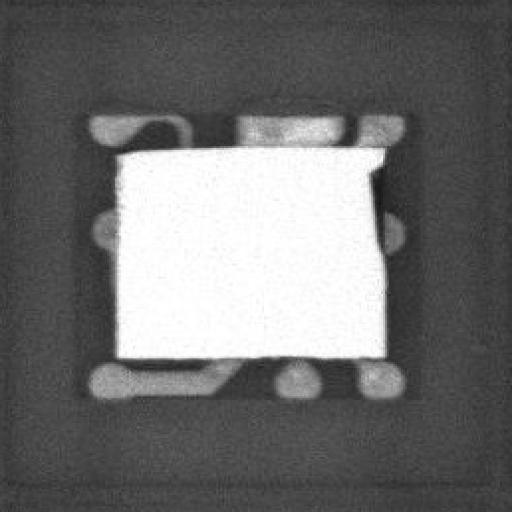DIE_BROKEN: (365, 156, 383, 268)
